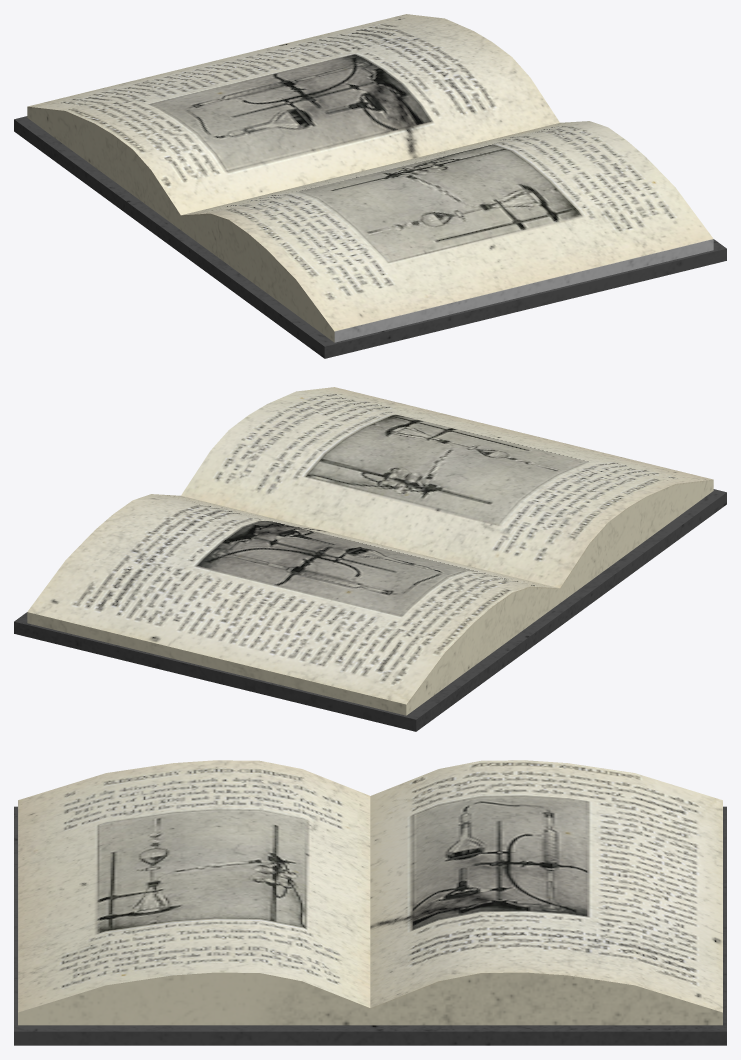
File: SM_Open_Book_5.fbx
3 renders of one model, top to bottom at view 1: azimuth 30°, elevation 25°; view 2: azimuth 150°, elevation 25°; view 3: azimuth 270°, elevation 25°, orthographic. The views are drawn at different scales.
Visible parts, largest first — view 1: SM_Open_Book_5_LOD0; view 2: SM_Open_Book_5_LOD0; view 3: SM_Open_Book_5_LOD0.
Boxes of the visible parts, bbox=[...] form: SM_Open_Book_5_LOD0: bbox=[14, 14, 726, 358]; SM_Open_Book_5_LOD0: bbox=[14, 387, 726, 731]; SM_Open_Book_5_LOD0: bbox=[14, 760, 726, 1045].
Bounding box in the file's own units: 23.34 × 31.24 × 3.23.
Materials: 1 (1 with a texture image).
